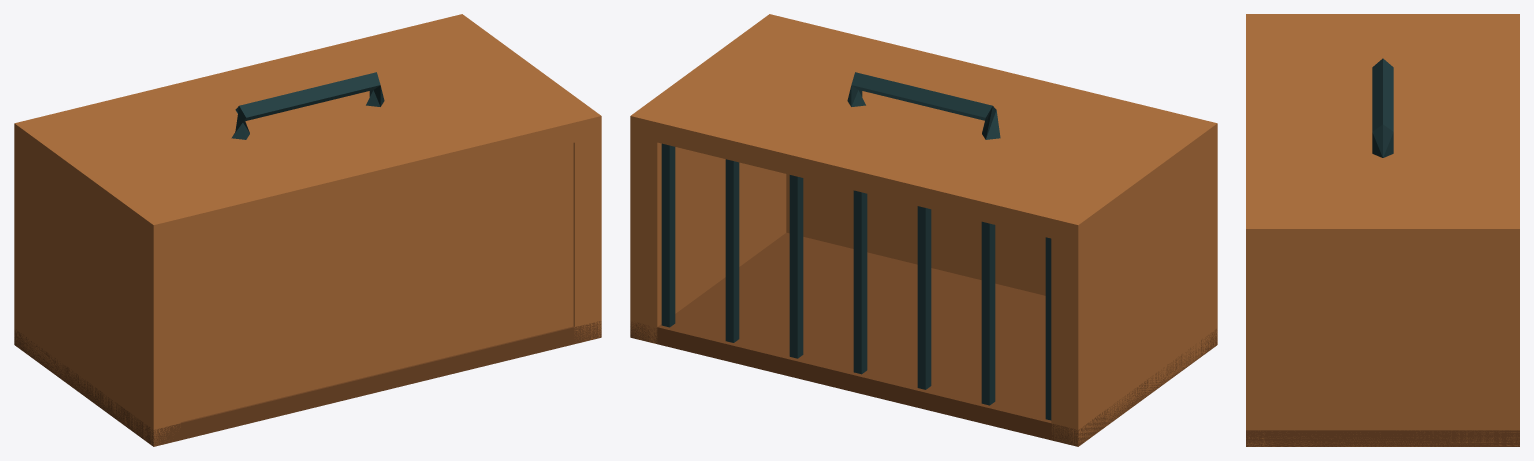
File: transport_crate_L.fbx
3 renders of one model, left to right at view 1: azimuth 30°, elevation 25°; view 2: azimuth 150°, elevation 25°; view 3: azimuth 270°, elevation 25°, orthographic.
Visible parts, largest first — view 1: transport_crate_L; view 2: transport_crate_L; view 3: transport_crate_L.
Part boxes in pixels (box(x1,y1,x2,y2)): transport_crate_L: box(14, 14, 601, 446); transport_crate_L: box(630, 14, 1217, 446); transport_crate_L: box(1246, 14, 1519, 446).
Bounding box in the file's own units: 2.6 × 1.4 × 1.4.
